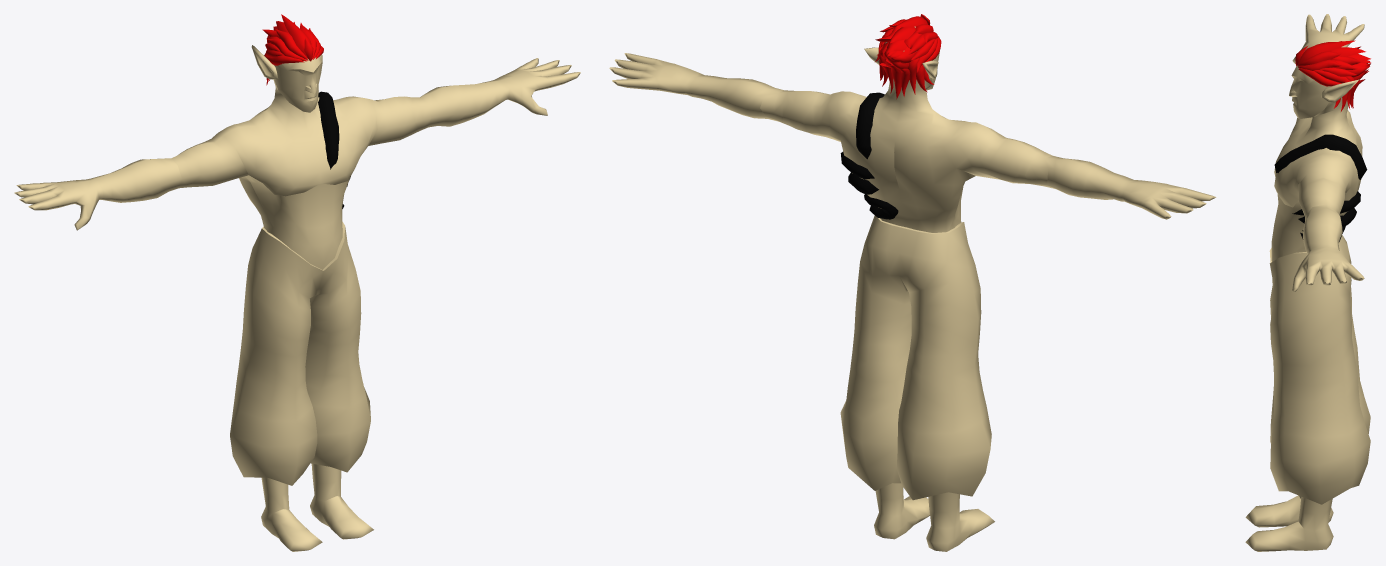
File: Fenrir.fbx
The picture shows the model from 3 angles, left to right: view 1: azimuth 30°, elevation 25°; view 2: azimuth 150°, elevation 25°; view 3: azimuth 270°, elevation 25°; orthographic projection. The views are drawn at different scales.
Parts seen in each view (by area): view 1: base; view 2: base; view 3: base.
Part boxes in pixels (<box>): base: <box>14,14,580,551</box>; base: <box>609,14,1216,551</box>; base: <box>1245,14,1370,551</box>.
Bounding box in the file's own units: 1.99 × 0.3927 × 1.7.
